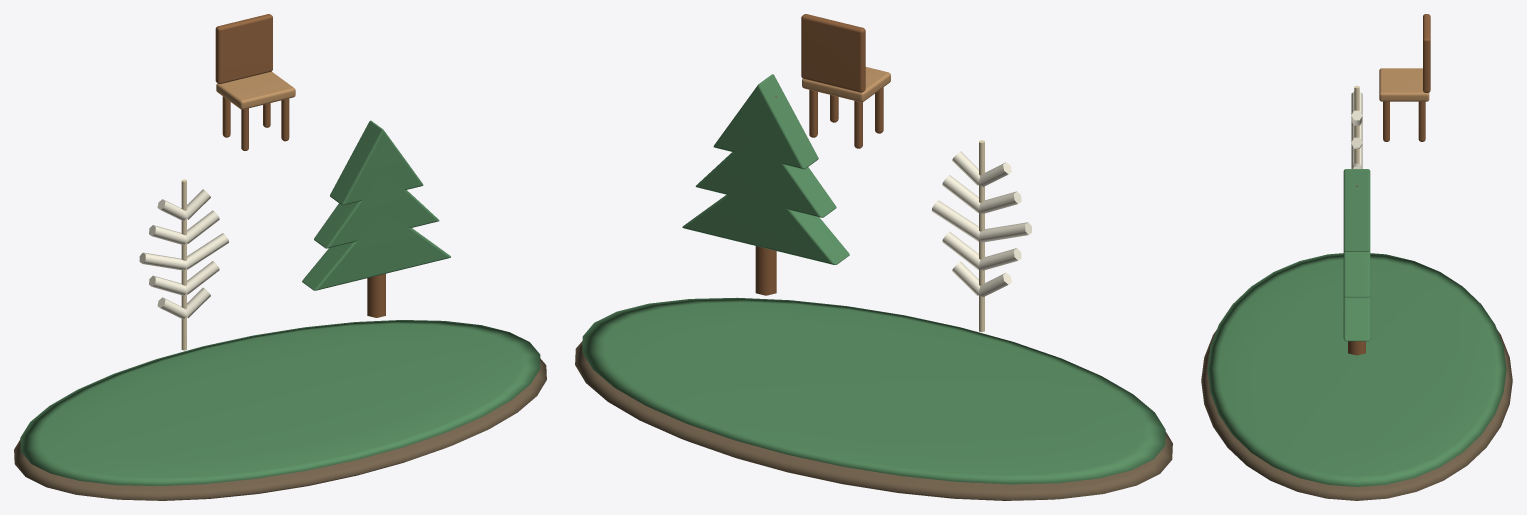
The model's file is complete-third-light-pine-rest.glb.
3 views of the same model, side by side, from view 1: azimuth 30°, elevation 25°; view 2: azimuth 150°, elevation 25°; view 3: azimuth 270°, elevation 25° (orthographic). The views are drawn at different scales.
Visible parts, largest first — view 1: complete-third-light-pine-rest_surface_01, complete-third-light-pine-rest_surface_00, complete-third-light-pine-rest_surface_04, complete-third-light-pine-rest_surface_03, complete-third-light-pine-rest_surface_05, complete-third-light-pine-rest_surface_02; view 2: complete-third-light-pine-rest_surface_01, complete-third-light-pine-rest_surface_00, complete-third-light-pine-rest_surface_04, complete-third-light-pine-rest_surface_03, complete-third-light-pine-rest_surface_05, complete-third-light-pine-rest_surface_02; view 3: complete-third-light-pine-rest_surface_01, complete-third-light-pine-rest_surface_00, complete-third-light-pine-rest_surface_05, complete-third-light-pine-rest_surface_04, complete-third-light-pine-rest_surface_03.
Boxes of the visible parts, x1,y1,x2,y2 form: complete-third-light-pine-rest_surface_01: [20, 120, 540, 485]; complete-third-light-pine-rest_surface_00: [14, 358, 546, 500]; complete-third-light-pine-rest_surface_04: [215, 14, 385, 317]; complete-third-light-pine-rest_surface_03: [139, 189, 228, 319]; complete-third-light-pine-rest_surface_05: [216, 71, 295, 109]; complete-third-light-pine-rest_surface_02: [181, 179, 186, 350]; complete-third-light-pine-rest_surface_01: [582, 74, 1165, 484]; complete-third-light-pine-rest_surface_00: [575, 341, 1172, 500]; complete-third-light-pine-rest_surface_04: [755, 14, 883, 295]; complete-third-light-pine-rest_surface_03: [931, 151, 1031, 297]; complete-third-light-pine-rest_surface_05: [802, 67, 890, 102]; complete-third-light-pine-rest_surface_02: [979, 140, 984, 331]; complete-third-light-pine-rest_surface_01: [1207, 169, 1506, 486]; complete-third-light-pine-rest_surface_00: [1201, 330, 1512, 500]; complete-third-light-pine-rest_surface_05: [1379, 68, 1429, 101]; complete-third-light-pine-rest_surface_04: [1348, 14, 1430, 355]; complete-third-light-pine-rest_surface_03: [1351, 91, 1362, 168].
Bounding box in the file's own units: 4.56 × 3.27 × 2.5.
